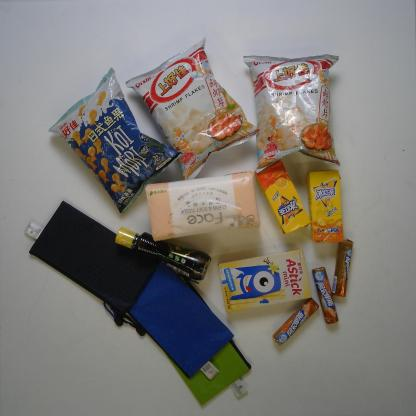Candy: (270, 296, 320, 348), (310, 265, 340, 326), (330, 237, 354, 298)
Dessert: (216, 246, 314, 315)
Drink: (252, 158, 313, 237), (304, 166, 347, 247)
Puffed Food: (44, 65, 186, 216), (123, 34, 263, 181), (238, 52, 342, 175)
Seasoner: (112, 225, 214, 283)
Stationery: (22, 196, 163, 340), (101, 257, 236, 383), (149, 272, 254, 410)
Tissue: (143, 168, 263, 244)
